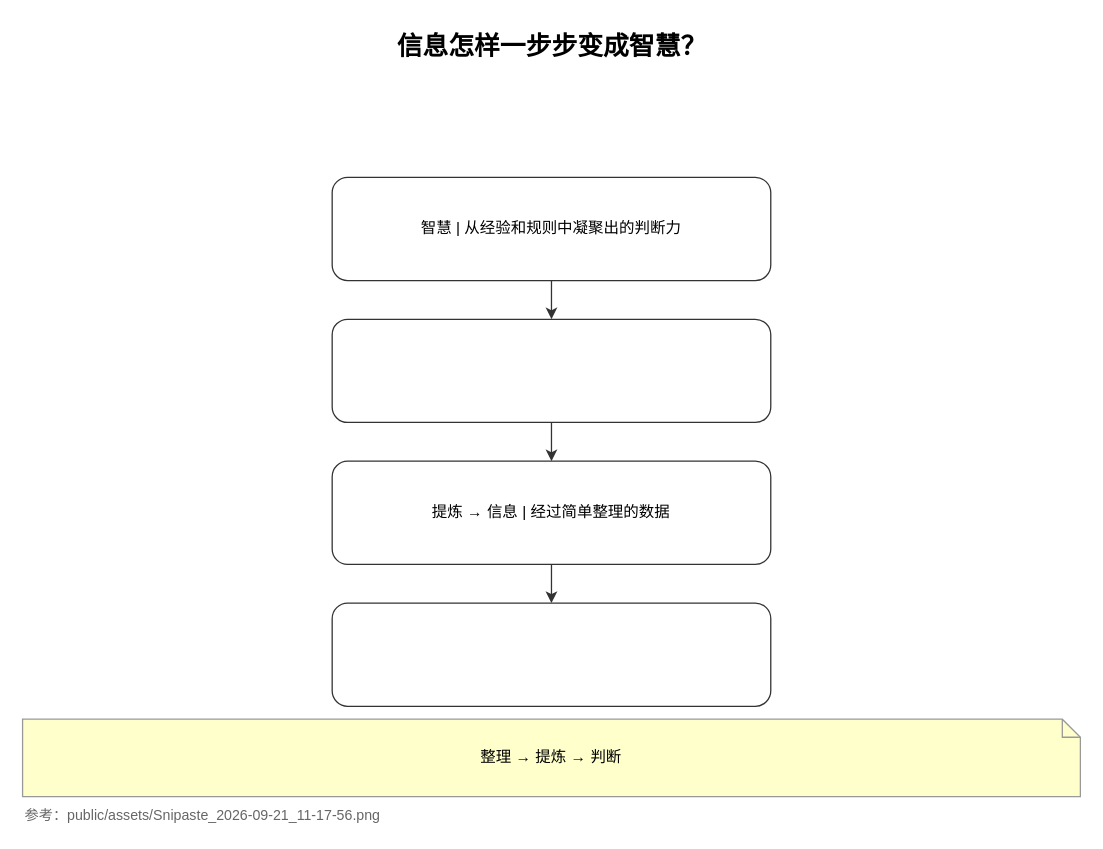
This 1103x849 diagram has some shape labels left out. Each missing label, with the box of its shape:
判断 → 知识 | 从信息中提炼出的规则、规律与经验: (331, 318, 771, 422)
整理 → 数据与信号 | 未经整理的原始记录: (331, 602, 771, 706)
